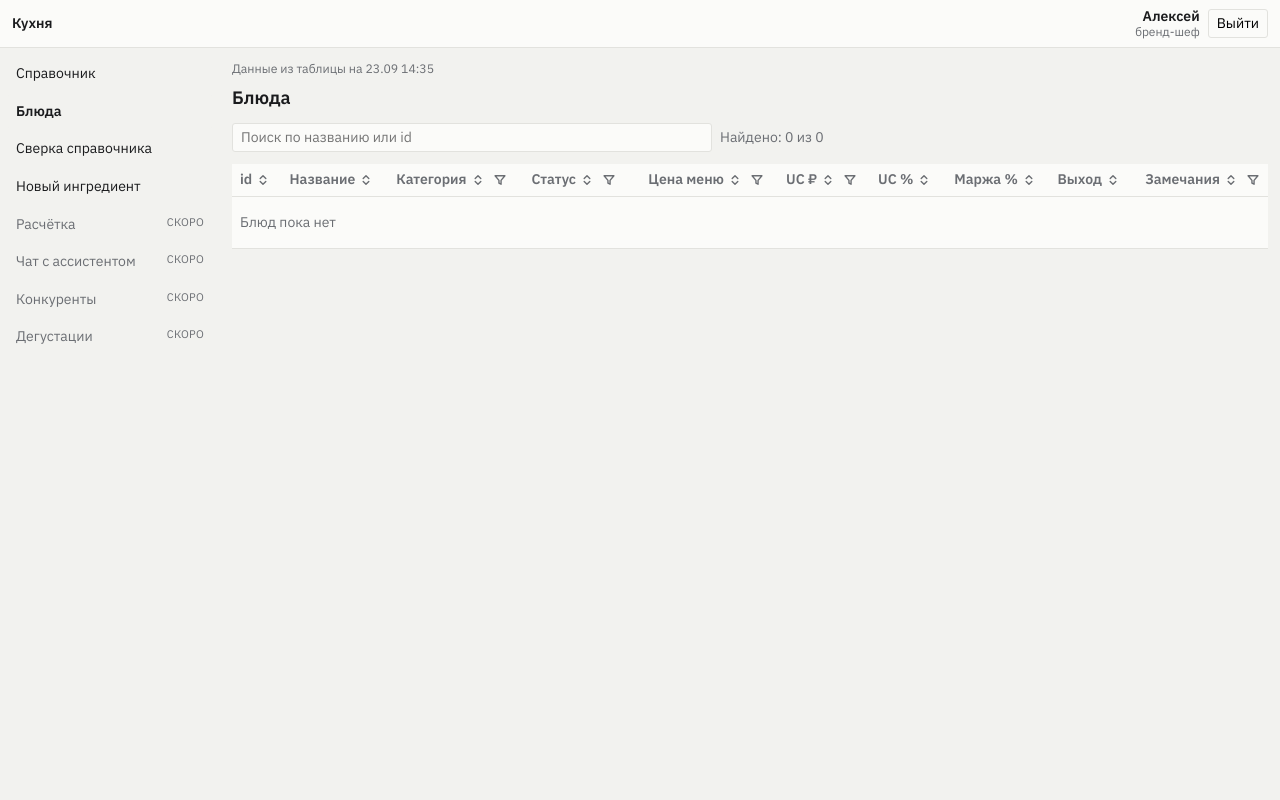
Scenario: выход с 502 — форма входа, предупреждение и «Повторить выход»
The width and height of the screenshot is (1280, 800).
Check: the text "Алексей" is shown, box [1143,8,1200,25]
Click the button "Выйти" at (1238, 24), box [1208,9,1268,38]
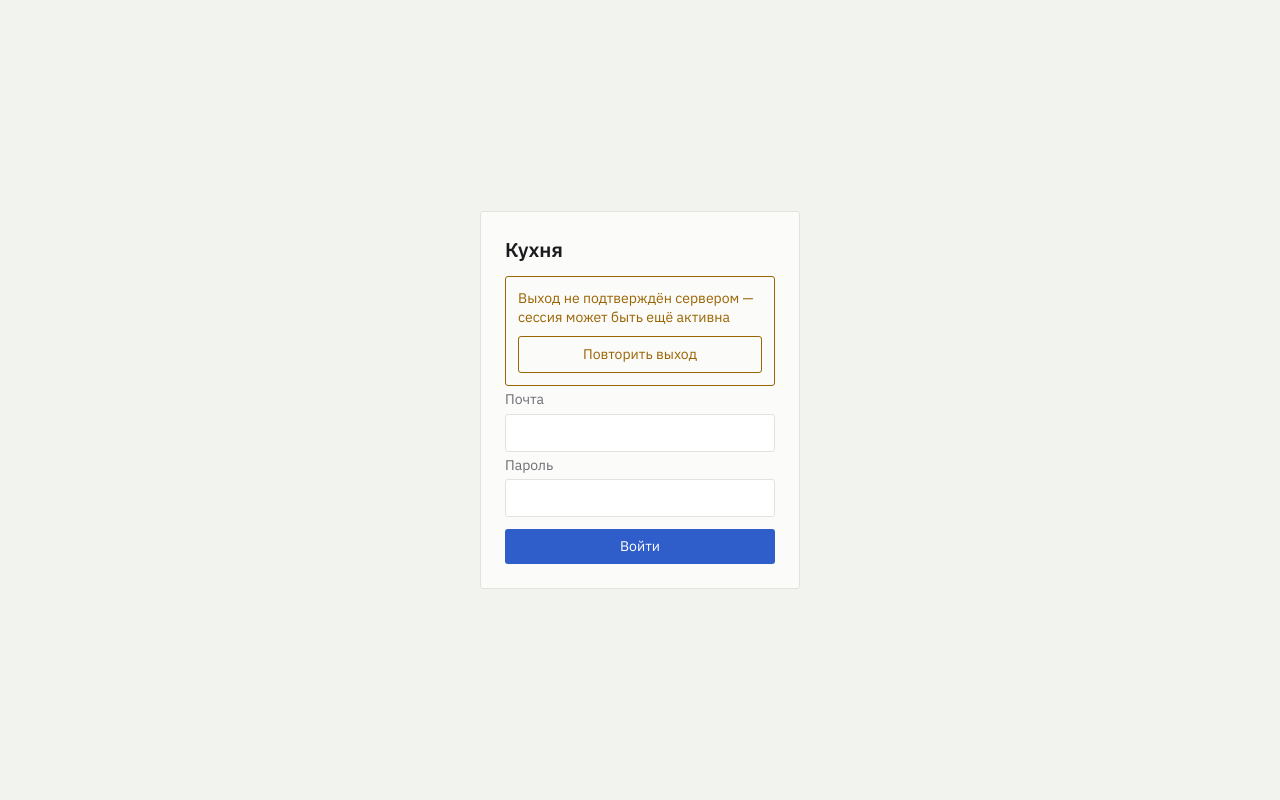
Check: the field labelled "Почта" is shown, box [505,414,775,452]
Check: the text "Выход не подтверждён сервером" reads "Выход не подтверждён сервером — сессия может быть ещё активна", box [518,289,754,326]
Check: the button "Повторить выход" is shown, box [518,336,762,373]
